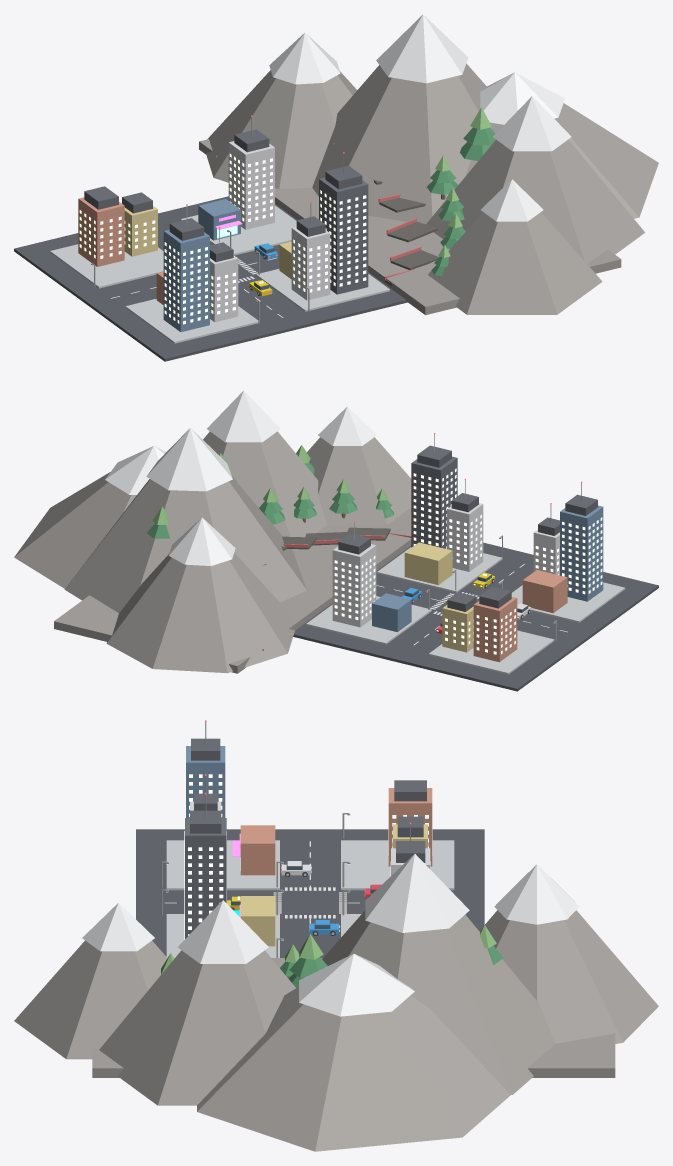
The model's file is city.glb.
The picture shows the model from 3 angles, top to bottom: view 1: azimuth 30°, elevation 25°; view 2: azimuth 150°, elevation 25°; view 3: azimuth 270°, elevation 25°; orthographic projection. The views are drawn at different scales.
Parts seen in each view (by area): view 1: Peak_Alpha_Rock, Ground_City_Asphalt, Peak_Delta_Rock, Peak_Beta_Rock, Peak_Gamma_Rock, Mountain_Slope_Base, Ridge_East_Rock, Tower_SE_A_Main, Tower_SW_A_Main, Peak_Alpha_Snow, Office_NE_A_Main, Apt_NW_A_Main (+18 smaller); view 2: Peak_Gamma_Rock, Peak_Alpha_Rock, Ground_City_Asphalt, Ridge_East_Rock, Mountain_Slope_Base, Peak_Delta_Rock, Peak_Beta_Rock, Tower_SW_A_Main, Peak_Alpha_Snow, Tower_SE_A_Main, Office_NE_A_Main, Apt_NW_A_Main (+18 smaller); view 3: Ridge_East_Rock, Peak_Beta_Rock, Peak_Alpha_Rock, Ground_City_Asphalt, Peak_Gamma_Rock, Peak_Delta_Rock, Peak_Alpha_Snow, Ridge_East_Snow, Mountain_Slope_Base, Peak_Beta_Snow, Tower_SE_A_Main, Sidewalk_Block_2 (+11 smaller).
Part boxes in pixels (x1,y1,x2,y2): Peak_Alpha_Rock: [312, 63, 486, 224]; Ground_City_Asphalt: [14, 196, 407, 361]; Peak_Delta_Rock: [428, 212, 602, 314]; Peak_Beta_Rock: [426, 139, 644, 263]; Peak_Gamma_Rock: [206, 70, 357, 189]; Mountain_Slope_Base: [199, 139, 621, 315]; Ridge_East_Rock: [465, 103, 658, 218]; Tower_SE_A_Main: [319, 177, 368, 294]; Tower_SW_A_Main: [163, 229, 209, 331]; Peak_Alpha_Snow: [376, 14, 468, 83]; Office_NE_A_Main: [228, 141, 274, 229]; Apt_NW_A_Main: [78, 197, 124, 266]; Peak_Gamma_Rock: [106, 553, 294, 673]; Peak_Alpha_Rock: [64, 477, 306, 612]; Ground_City_Asphalt: [293, 542, 658, 691]; Ridge_East_Rock: [14, 472, 136, 588]; Mountain_Slope_Base: [54, 507, 411, 673]; Peak_Delta_Rock: [307, 437, 411, 524]; Peak_Beta_Rock: [203, 431, 326, 537]; Tower_SW_A_Main: [560, 505, 603, 601]; Peak_Alpha_Snow: [146, 428, 232, 491]; Tower_SE_A_Main: [411, 456, 457, 548]; Office_NE_A_Main: [332, 544, 376, 627]; Apt_NW_A_Main: [473, 597, 517, 662]; Ridge_East_Rock: [197, 987, 510, 1151]; Peak_Beta_Rock: [99, 950, 295, 1105]; Peak_Alpha_Rock: [322, 910, 555, 1094]; Ground_City_Asphalt: [136, 829, 484, 957]; Peak_Gamma_Rock: [479, 910, 658, 1043]; Peak_Delta_Rock: [14, 940, 167, 1059]; Peak_Alpha_Snow: [365, 854, 469, 932]; Ridge_East_Snow: [299, 953, 414, 1016]; Mountain_Slope_Base: [92, 958, 615, 1077]; Peak_Beta_Snow: [177, 900, 268, 963]; Tower_SE_A_Main: [185, 818, 226, 938]; Sidewalk_Block_2: [341, 840, 454, 890].
Size of the model in its own units: 87.5 by 24.4 by 74.
